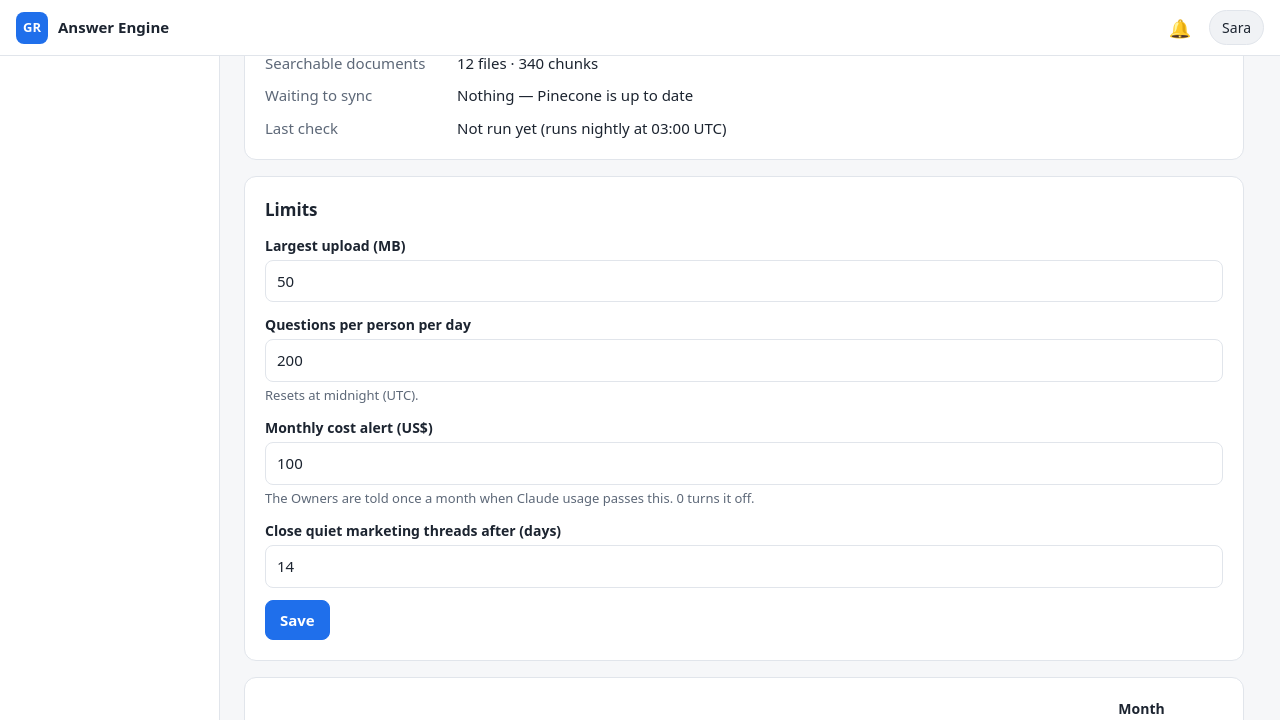
Scenario: limits: a refused value shows next to its field
(page scrolled)
Replace the text in the number field labelled "Questions per person per day" with "10001". click: {"x": 744, "y": 360}
box: [265, 339, 1223, 382]
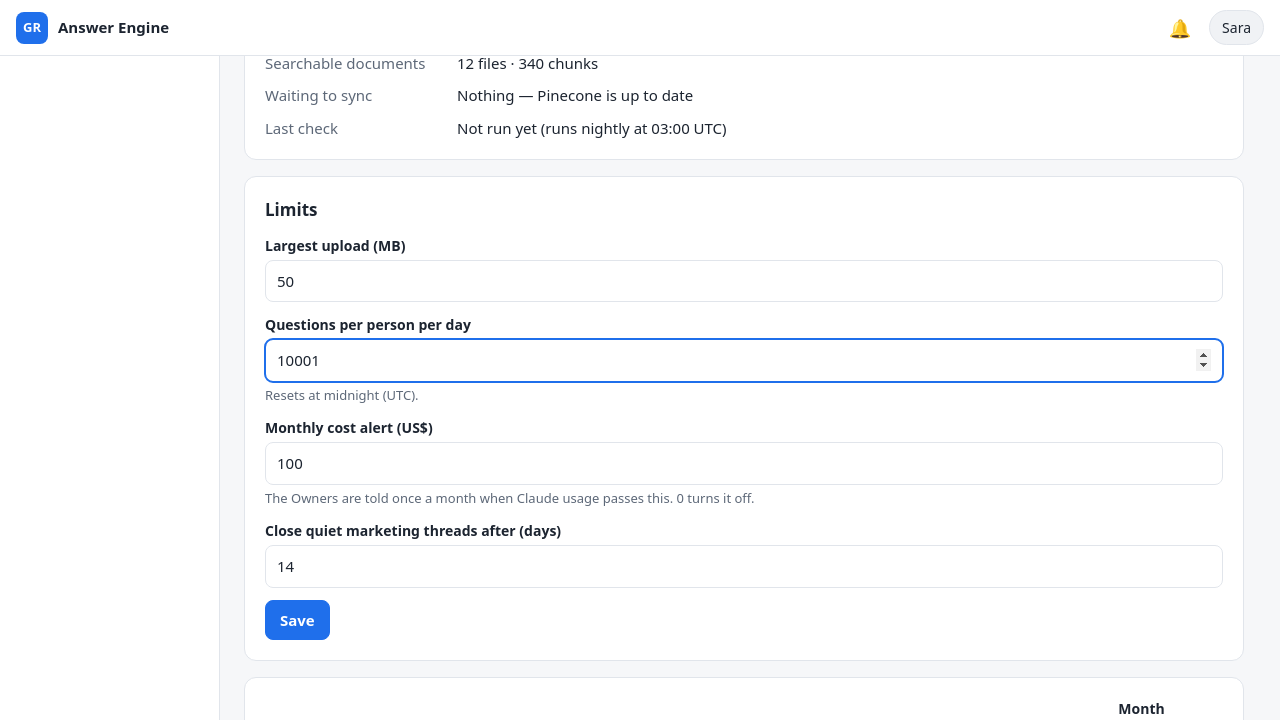
Click the button "Save". click: {"x": 297, "y": 620}
box: [265, 600, 330, 640]
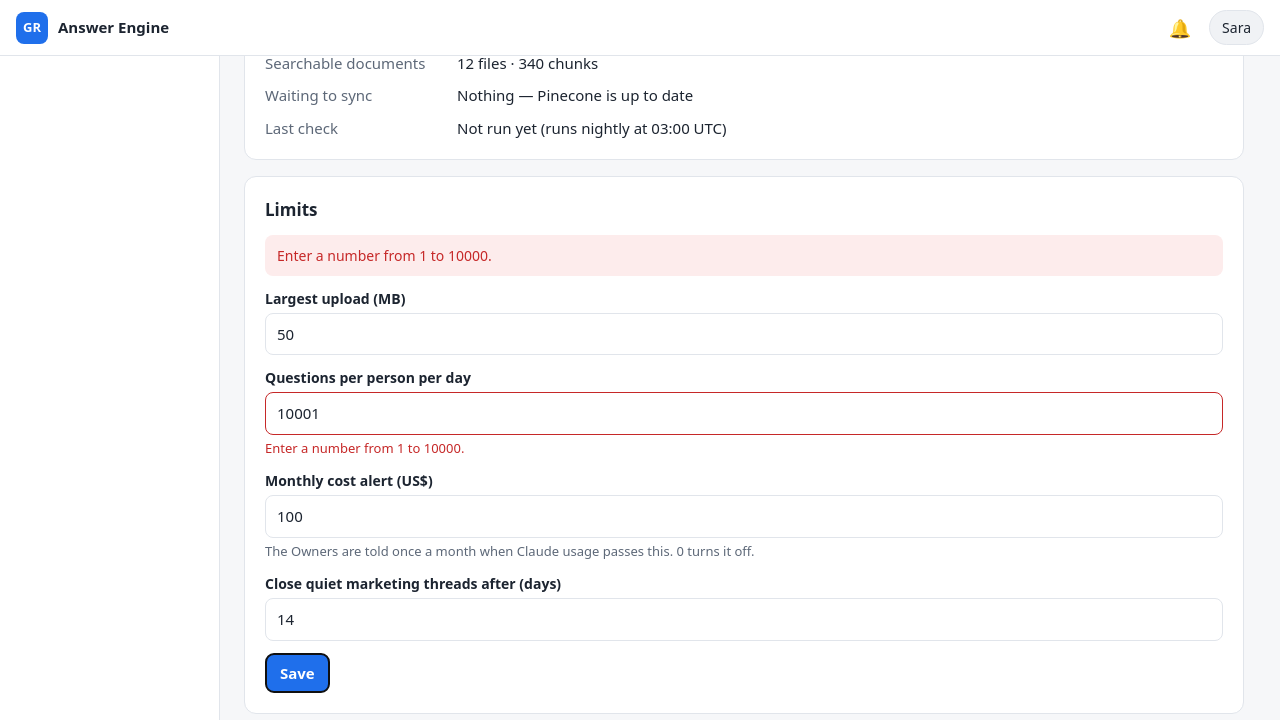
expect the text "Enter a number from 1 to 10000." is shown 2 times: met, box [265, 234, 1223, 276]; [265, 438, 464, 456]
